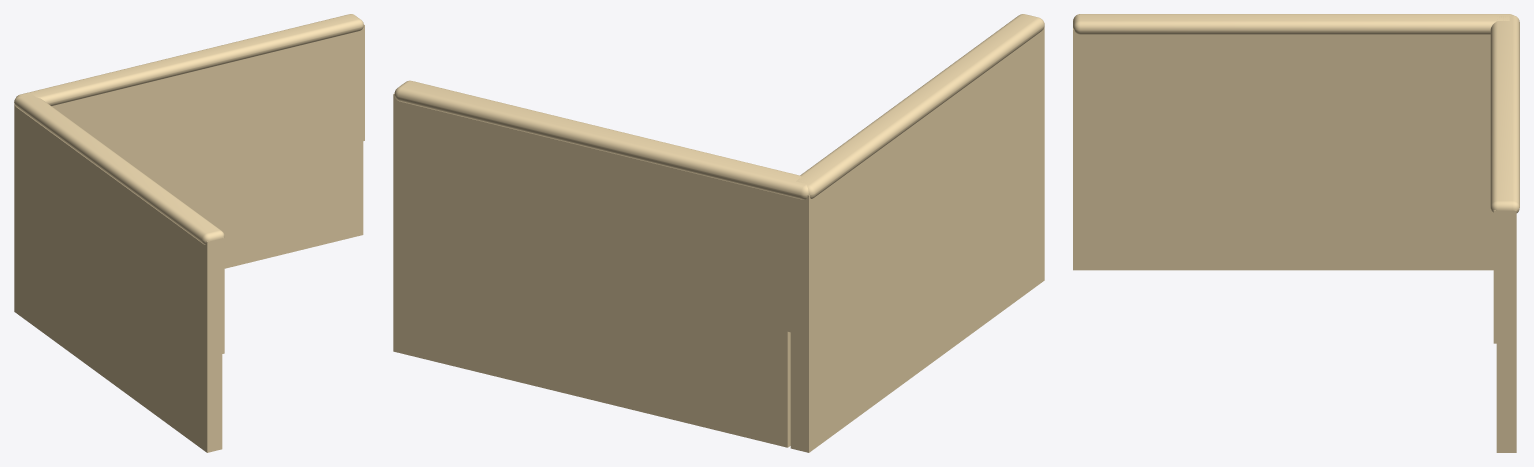
Rendered from walls.glb.
3 renders of one model, left to right at view 1: azimuth 30°, elevation 25°; view 2: azimuth 150°, elevation 25°; view 3: azimuth 270°, elevation 25°, orthographic. The views are drawn at different scales.
Parts seen in each view (by area): view 1: walls; view 2: walls; view 3: walls.
Boxes of the visible parts, bbox=[...] form: walls: bbox=[14, 14, 364, 452]; walls: bbox=[393, 14, 1044, 452]; walls: bbox=[1073, 14, 1519, 452].
Bounding box in the file's own units: 4.34 × 2.62 × 4.26.
